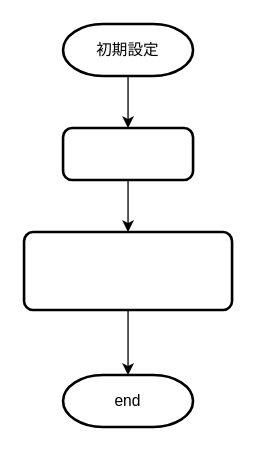
This 255x450 diagram has some shape labels left out. The box of each missing label's shape, as (x1, y1, x2, y2) in pixels:
LCDに00m00sを 表示する: (61, 126, 194, 181)
キッチンタイマー状態を カウントダウン設定 へ変更: (22, 230, 233, 311)
